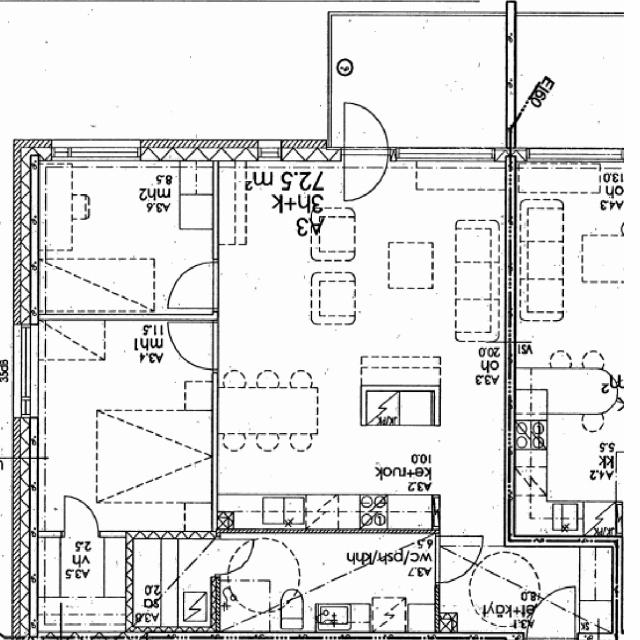door: (528, 584, 576, 640), (344, 102, 388, 162), (344, 147, 388, 207), (167, 324, 217, 369), (168, 263, 218, 308), (436, 537, 484, 583), (211, 541, 253, 575), (64, 497, 98, 539)
